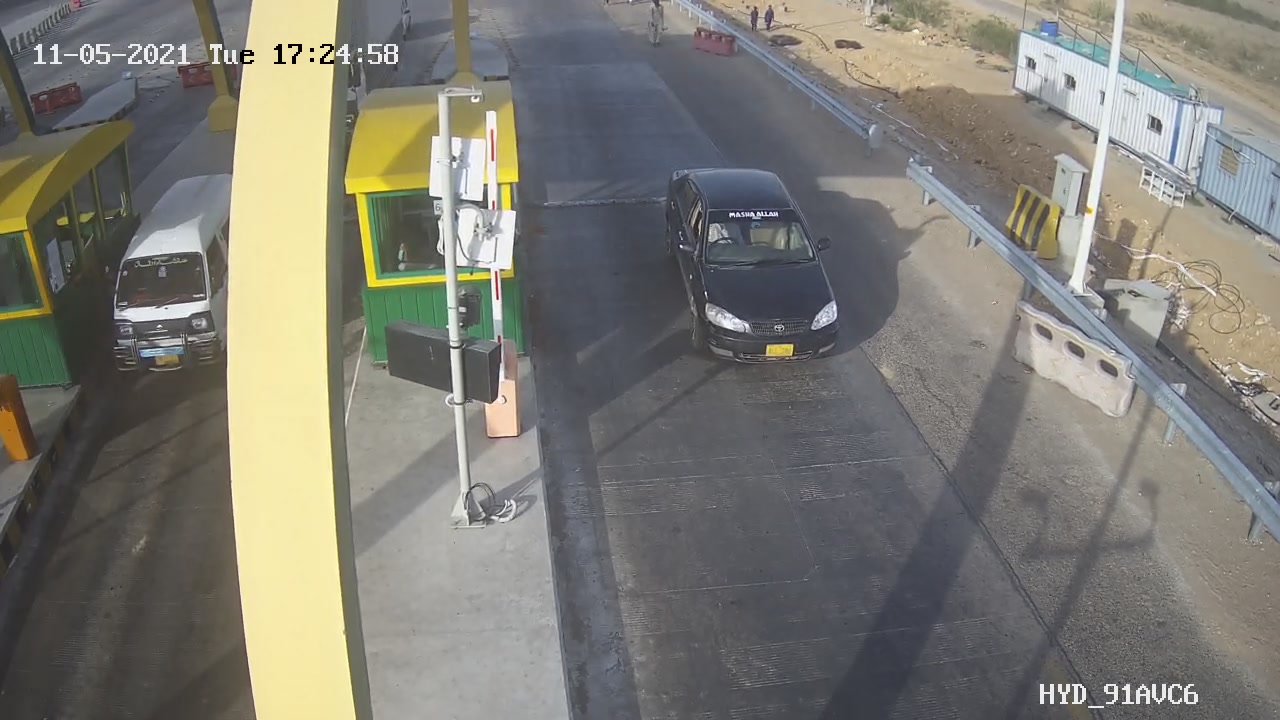F1: (646, 143, 865, 390)
